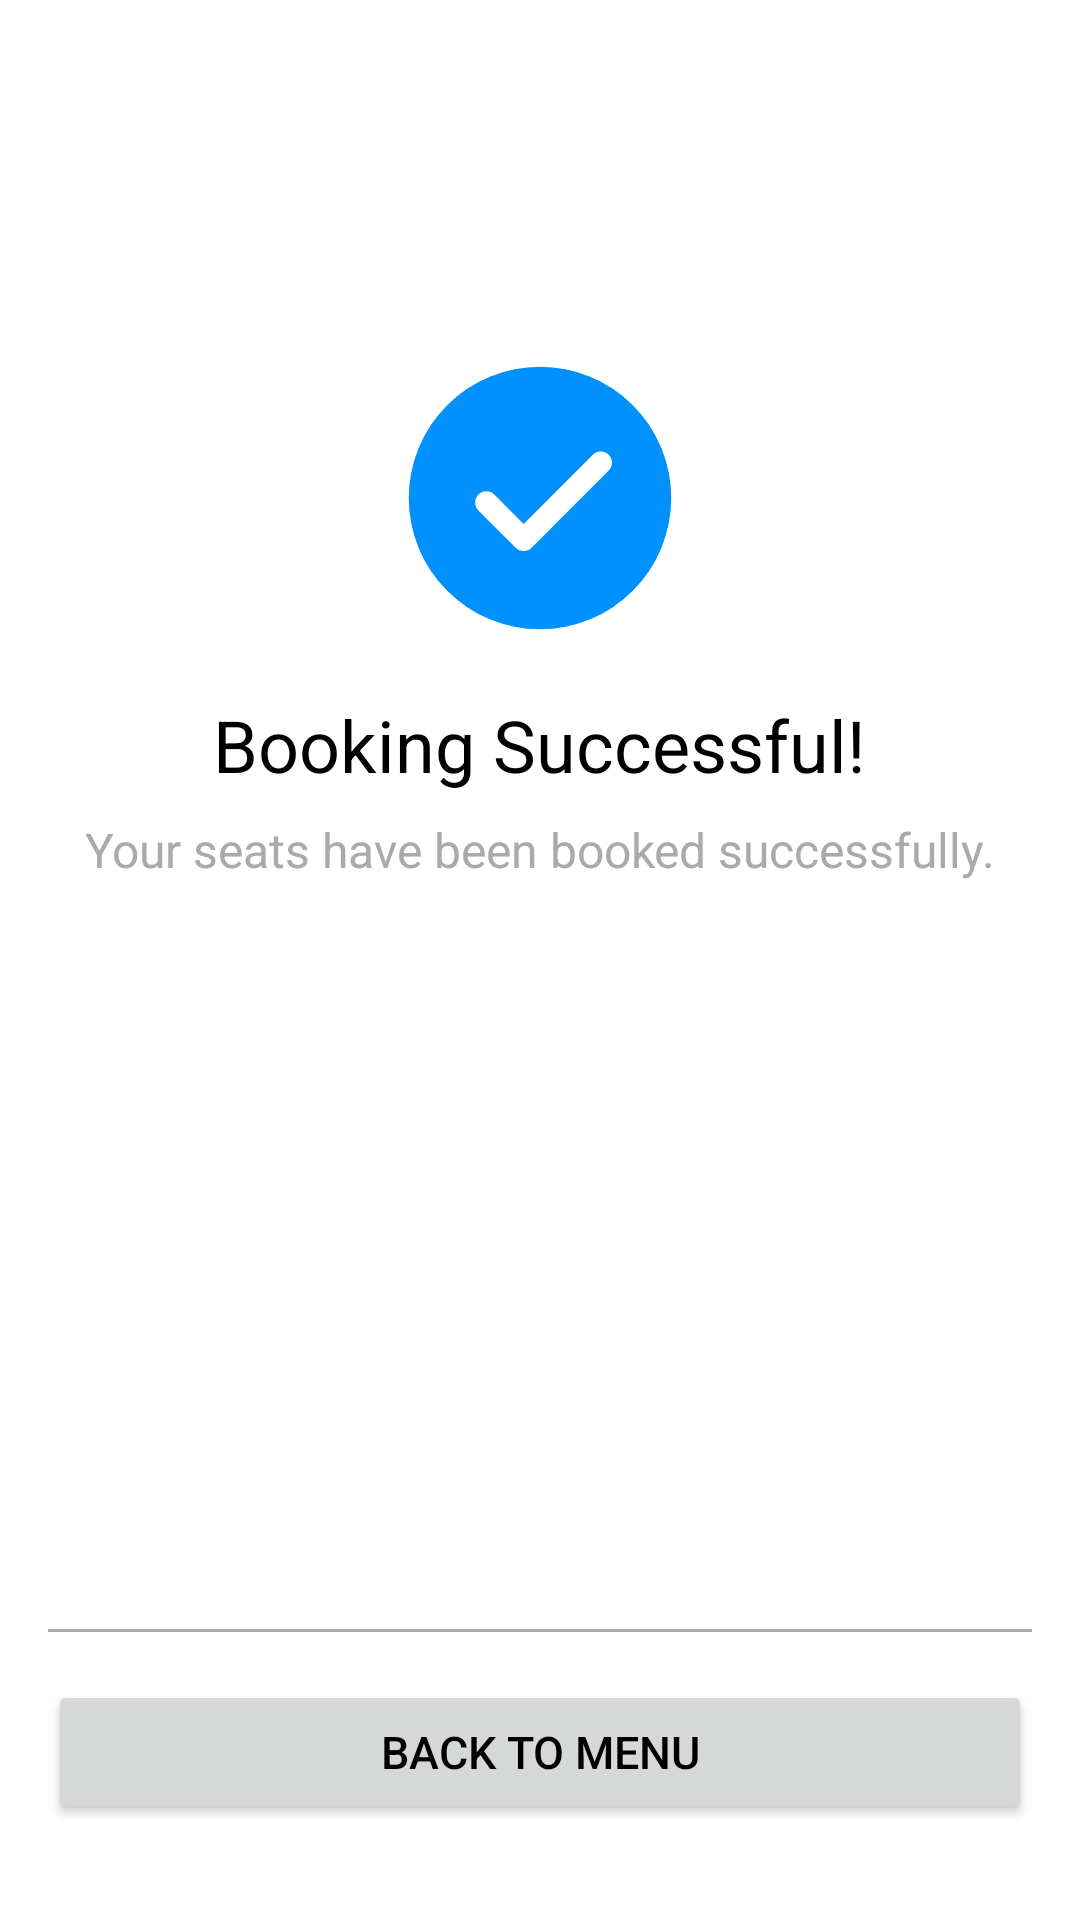

Icon click points for this 1080*1920 phone screenshot, format (x,y):
check: (540,498)
